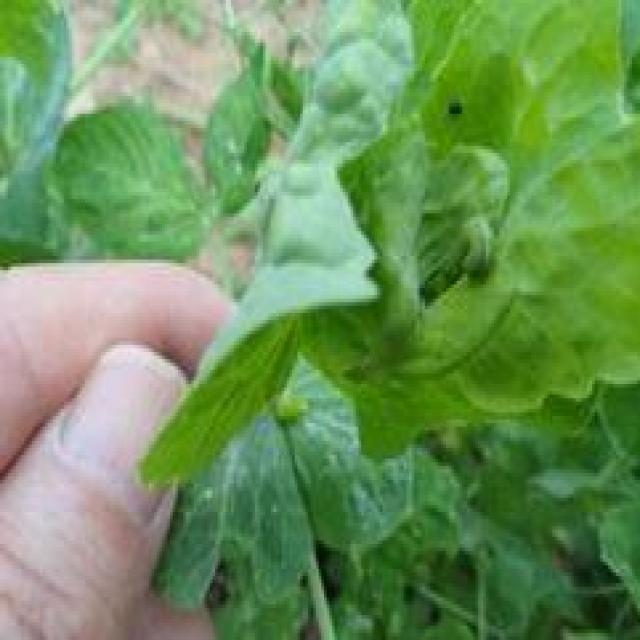BeetArmyWorm-Larva-: (438, 210, 505, 286)
